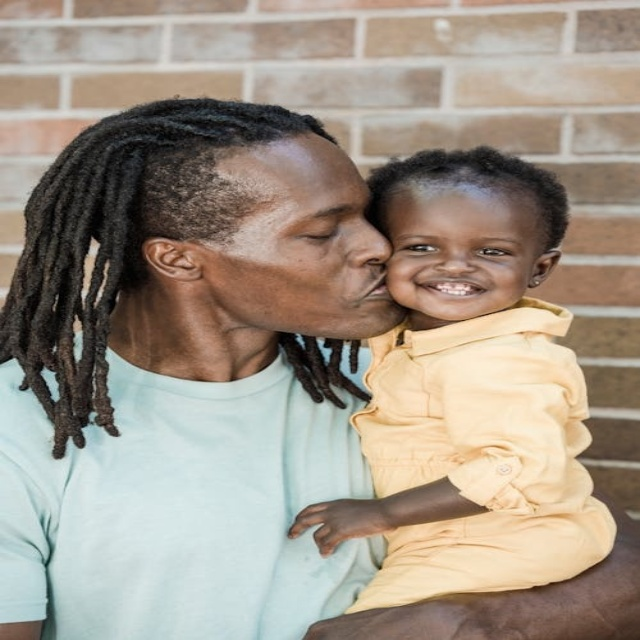Sin_gafas: (237, 195, 364, 250), (398, 224, 524, 261)
Sin_guantes: (288, 493, 403, 558)
Sin_mascara: (324, 269, 387, 335), (410, 275, 489, 312)
